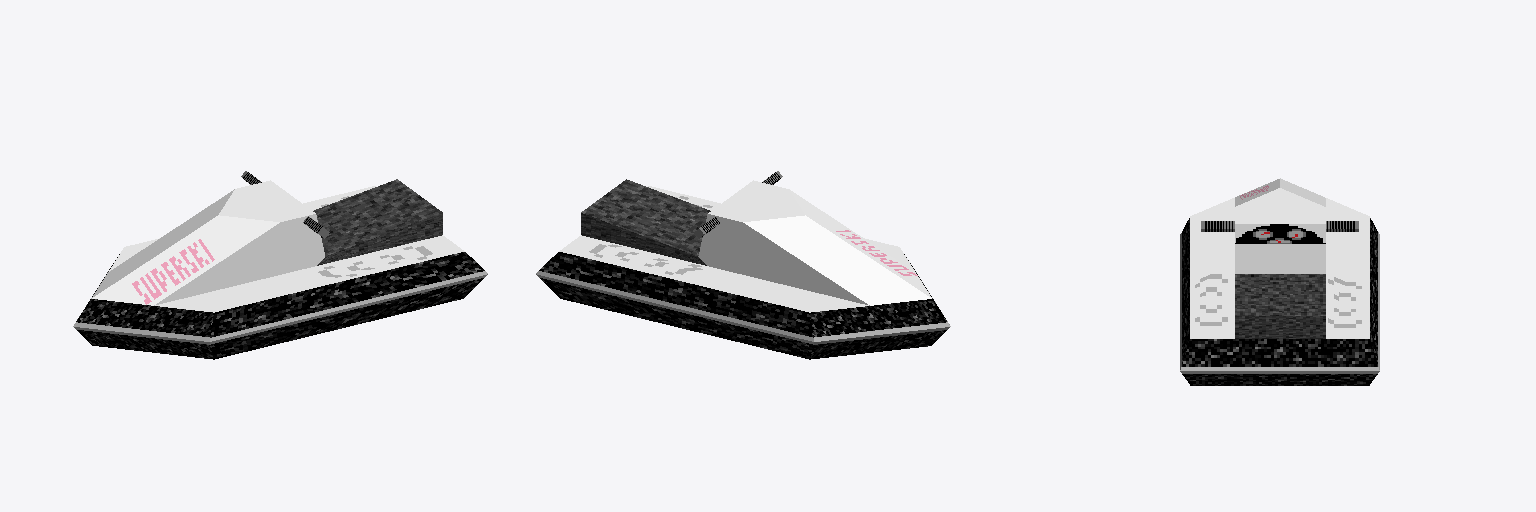
The picture shows the model from 3 angles: view 1: azimuth 30°, elevation 25°; view 2: azimuth 150°, elevation 25°; view 3: azimuth 270°, elevation 25°; orthographic projection.
Parts seen in each view (by area): view 1: Box001; view 2: Box001; view 3: Box001.
Boxes of the visible parts, <box> form: Box001: <box>73,171,487,359</box>; Box001: <box>536,171,950,359</box>; Box001: <box>1180,178,1379,385</box>.
Bounding box in the file's own units: 92.66 × 24.1 × 43.79.
Materials: 1 (1 with a texture image).